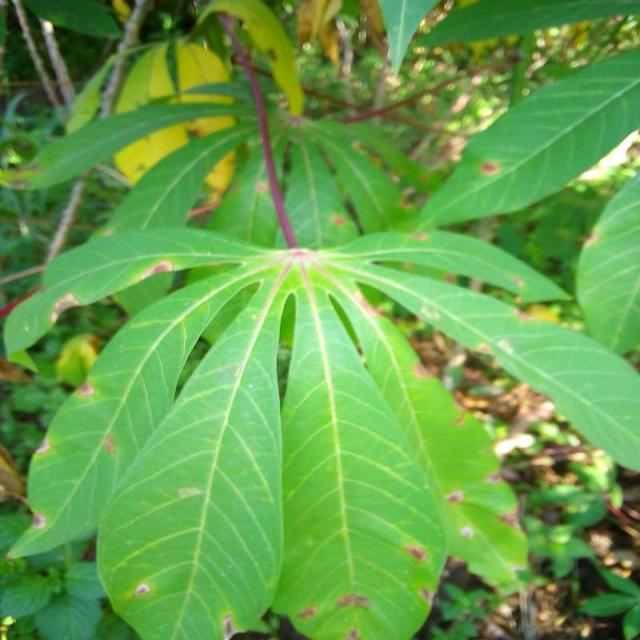cassava leaf: (4, 7, 639, 638), (96, 255, 291, 638)
